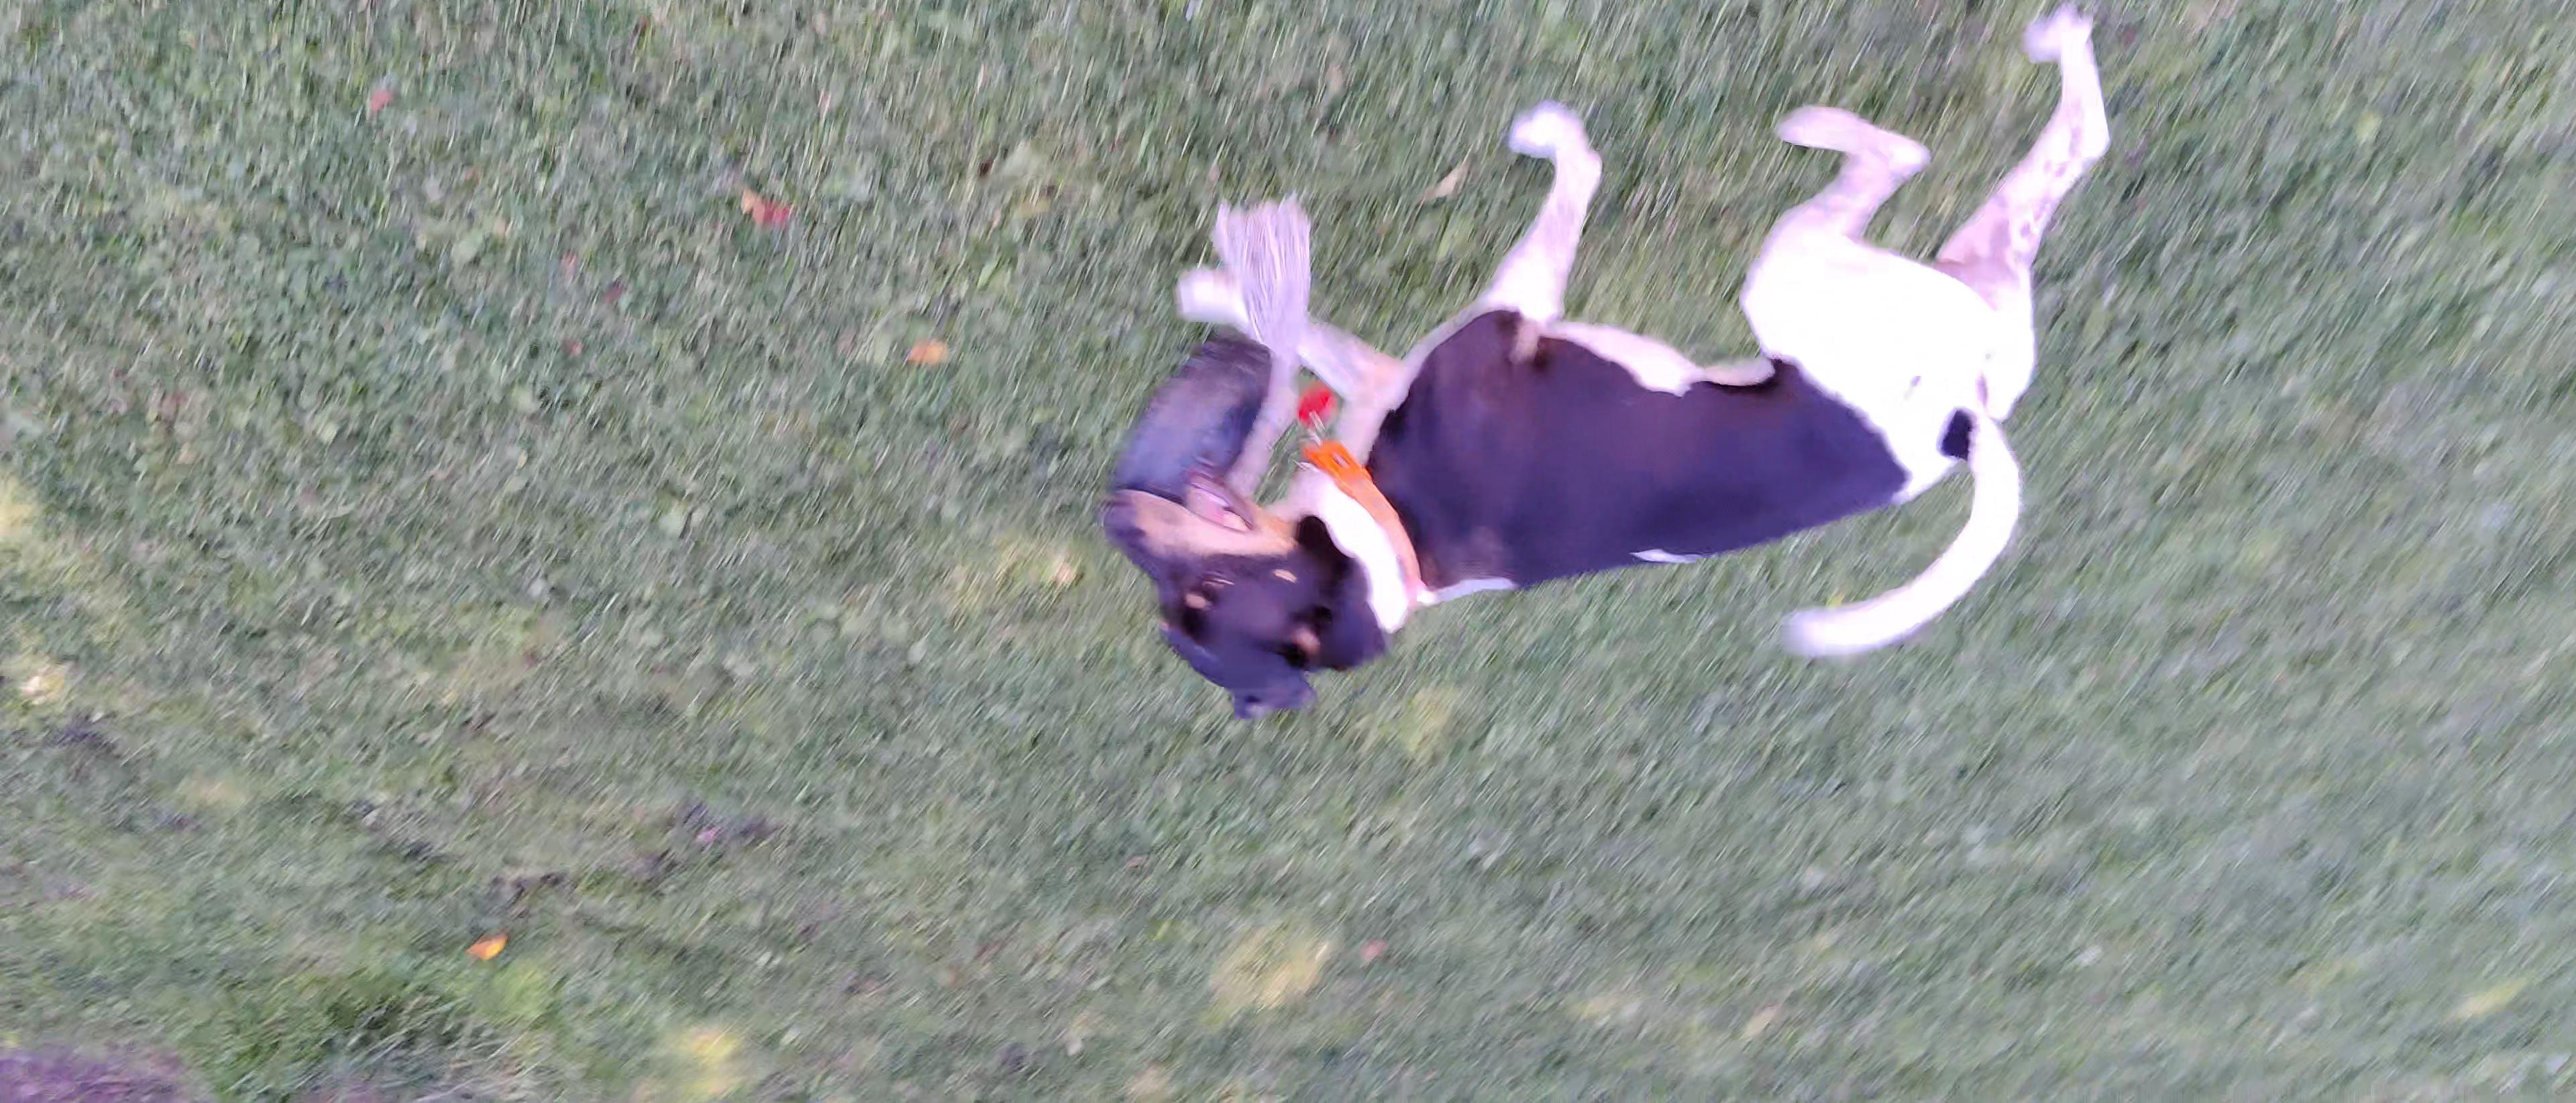Dog: (1101, 2, 2113, 727)
